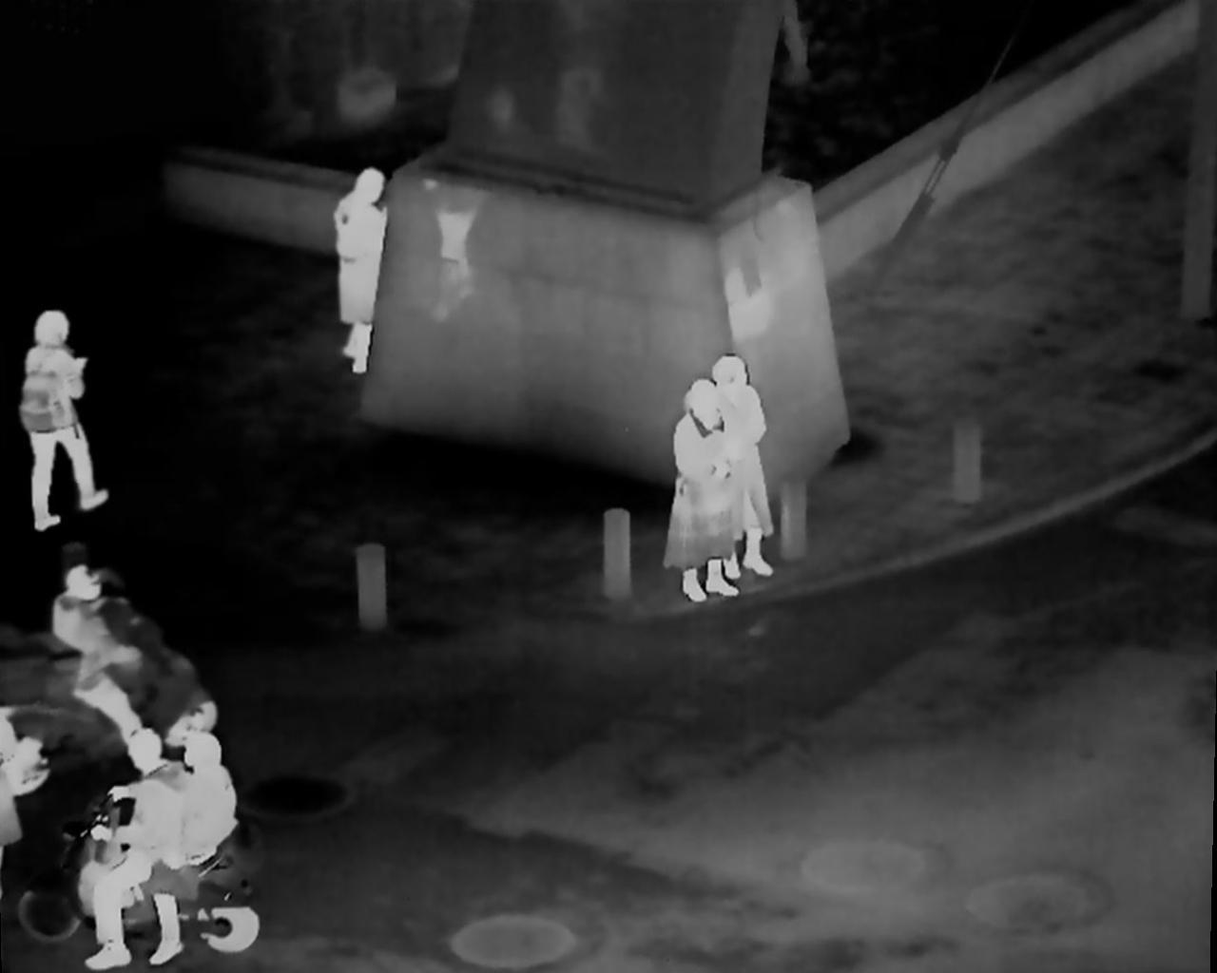person: (83, 731, 171, 962), (153, 730, 240, 963), (22, 310, 110, 534), (666, 379, 740, 605), (58, 569, 140, 733), (714, 353, 773, 578), (330, 165, 392, 378)
